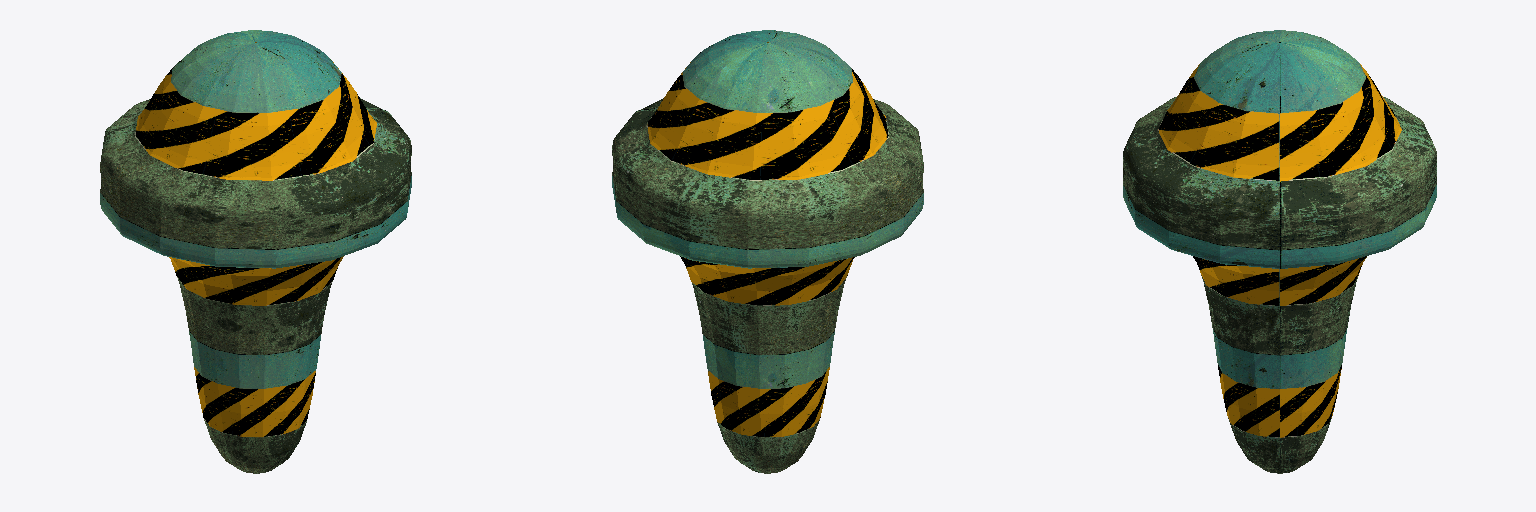
3 views of the same model, side by side, from view 1: azimuth 30°, elevation 25°; view 2: azimuth 150°, elevation 25°; view 3: azimuth 270°, elevation 25° (orthographic).
Parts seen in each view (by area): view 1: BezierCurve; view 2: BezierCurve; view 3: BezierCurve.
Boxes of the visible parts, x1=… form: BezierCurve: x1=100, y1=30, x2=411, y2=473; BezierCurve: x1=612, y1=30, x2=923, y2=473; BezierCurve: x1=1123, y1=30, x2=1436, y2=473.
Bounding box in the file's own units: 1.99 × 2.99 × 1.99.
Materials: 1 (1 with a texture image).